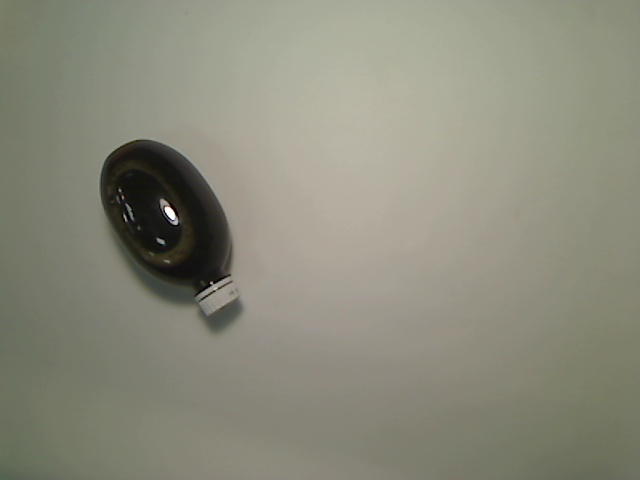plast_bottle: (99, 138, 241, 321)
